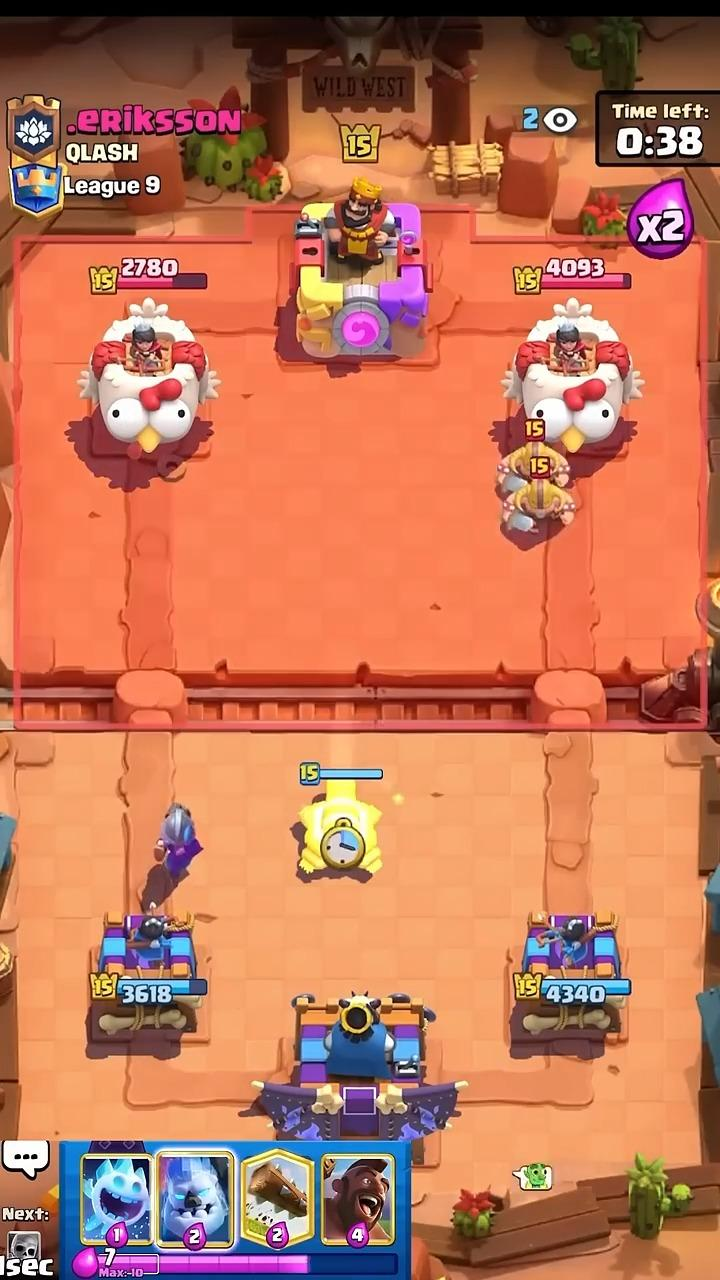cannon: (300, 781, 380, 873)
elite barbarians: (498, 441, 570, 494), (504, 479, 575, 532)
musketeer: (156, 803, 202, 886)
